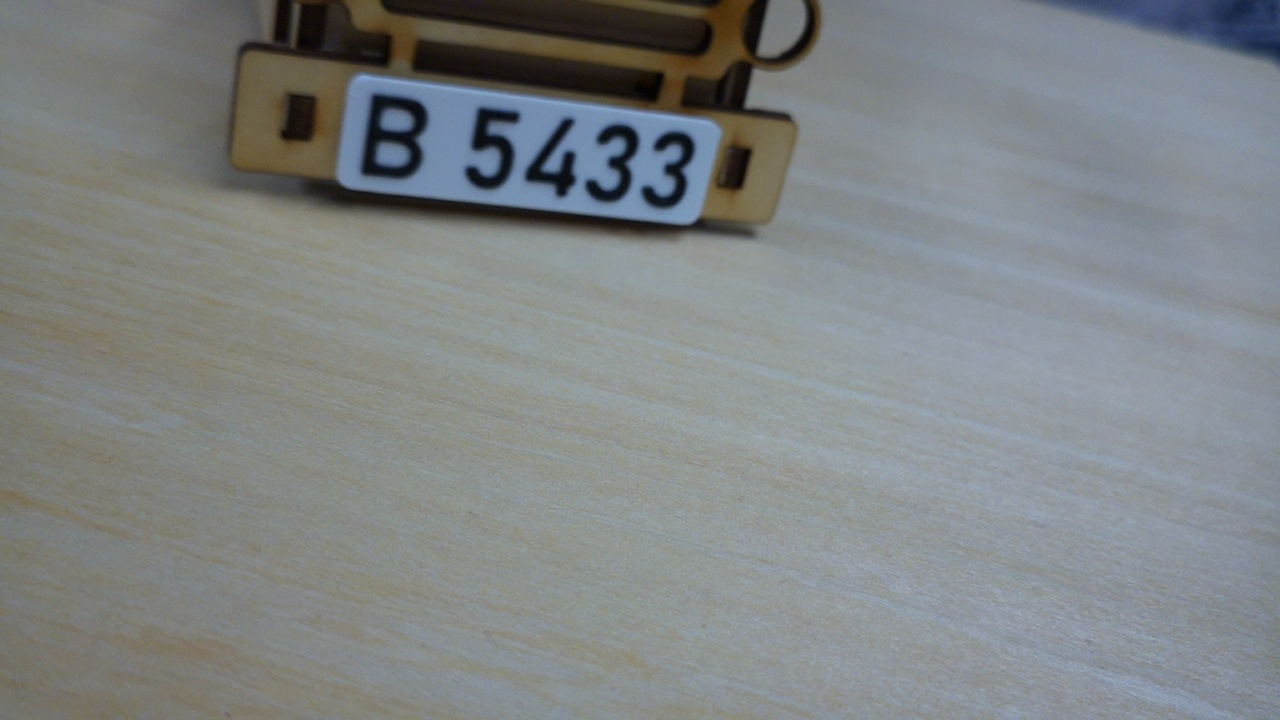license_plate: (333, 71, 724, 228)
